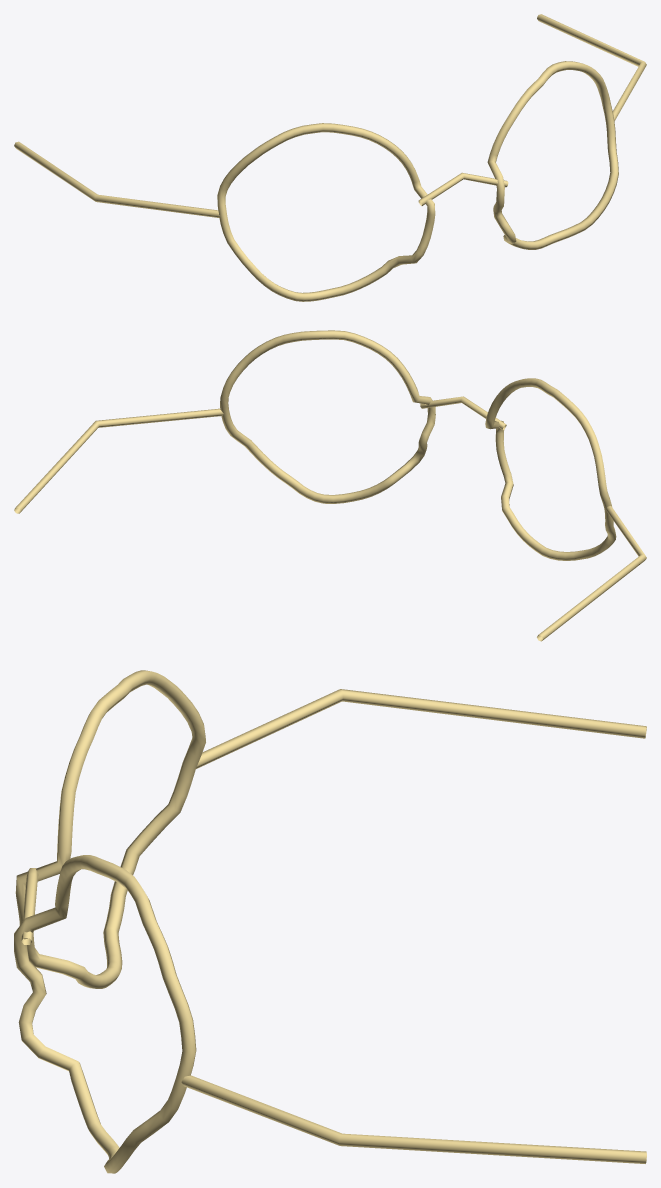
The model's file is restart_glasses_round_pig.glb.
The picture shows the model from 3 angles, top to bottom: view 1: azimuth 30°, elevation 25°; view 2: azimuth 150°, elevation 25°; view 3: azimuth 270°, elevation 25°; orthographic projection. The views are drawn at different scales.
Parts seen in each view (by area): view 1: Montura.014, Montura.015, Patilla curva.014, Patilla curva.015, Puente nasal.007; view 2: Montura.015, Montura.014, Patilla curva.015, Patilla curva.014, Puente nasal.007; view 3: Montura.015, Montura.014, Patilla curva.015, Patilla curva.014, Puente nasal.007.
Boxes of the visible parts, x1,y1,x2,y2 form: Montura.014: (217,123,435,301); Montura.015: (487,61,618,249); Patilla curva.014: (14,141,220,217); Patilla curva.015: (537,14,646,120); Puente nasal.007: (418,172,508,205); Montura.015: (220,330,435,503); Montura.014: (485,378,616,560); Patilla curva.015: (14,408,223,513); Patilla curva.014: (537,506,646,641); Puente nasal.007: (420,396,506,429); Montura.015: (14,855,196,1173); Montura.014: (15,670,205,988); Patilla curva.015: (181,1075,646,1163); Patilla curva.014: (196,689,646,768); Puente nasal.007: (21,868,38,944).
Bounding box in the file's own units: 0.8374 × 0.2505 × 0.4982.
